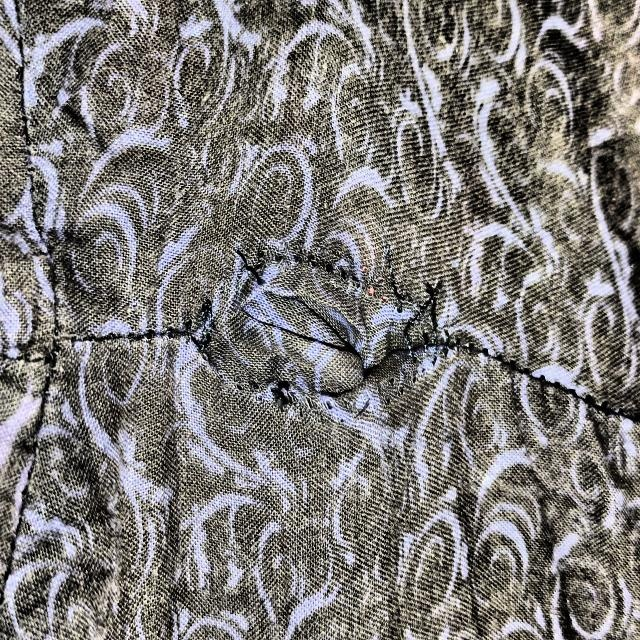seam: (117, 184, 508, 471)
